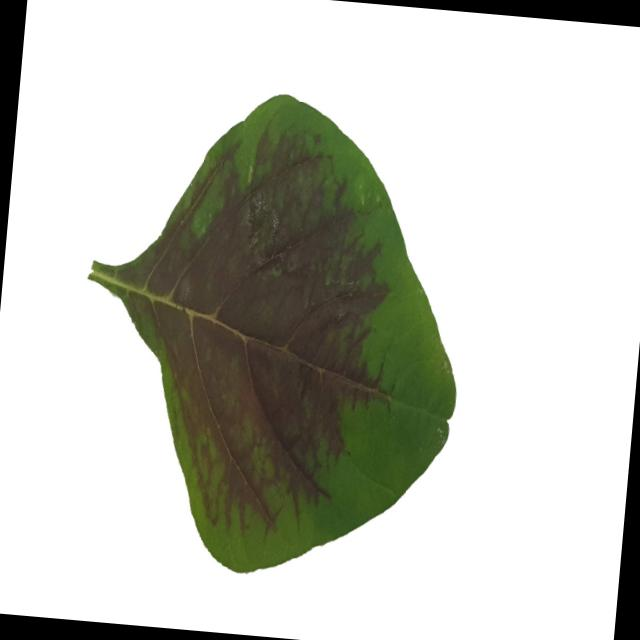Medicinal-Arive Dantu: (64, 74, 480, 586)
